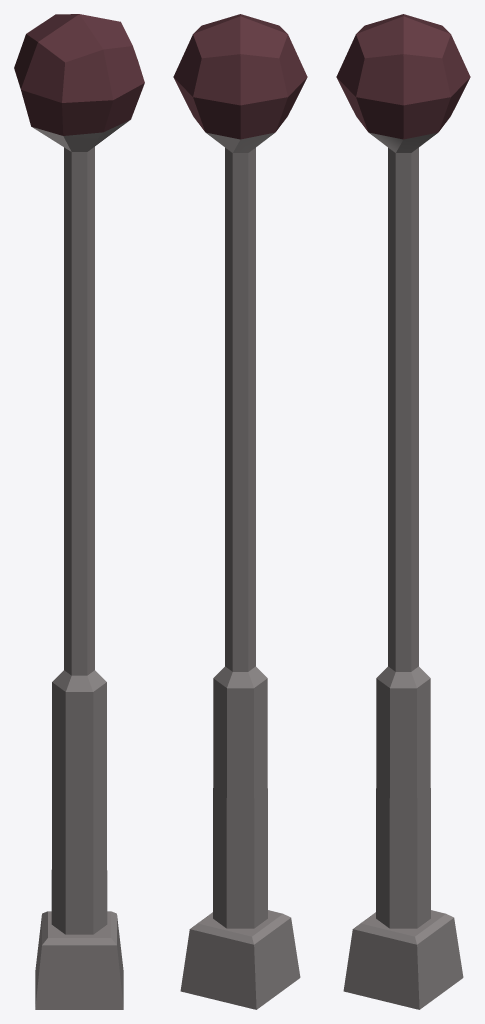
File: props-lamp-city.glb
3 renders of one model, left to right at view 1: azimuth 90°, elevation 25°; view 2: azimuth 150°, elevation 25°; view 3: azimuth 330°, elevation 25°, orthographic.
Parts seen in each view (by area): view 1: lamp-city; view 2: lamp-city; view 3: lamp-city.
Boxes of the visible parts, <box> form: lamp-city: <box>14,14,144,1009</box>; lamp-city: <box>173,14,307,1009</box>; lamp-city: <box>336,14,470,1009</box>.
Size of the model in its own units: 0.8121 by 6.69 by 0.8121.
